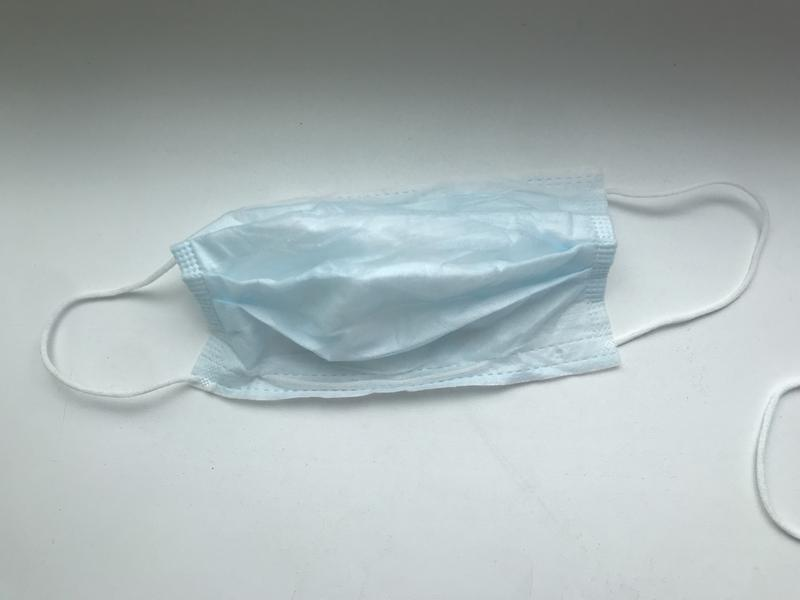medical_mask: (40, 171, 766, 405)
